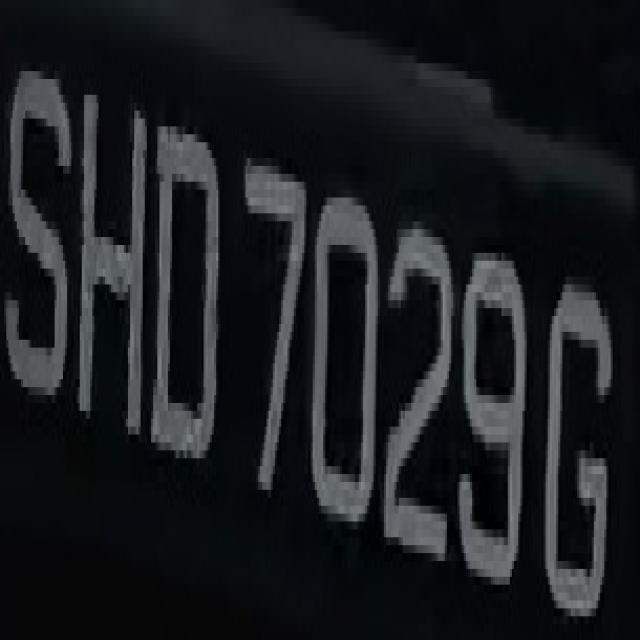0: (308, 166, 384, 585)
2: (382, 166, 455, 577)
7: (233, 119, 306, 522)
9: (447, 214, 531, 608)
D: (149, 95, 222, 482)
G: (539, 245, 617, 616)
H: (69, 48, 149, 458)
S: (6, 40, 67, 442)
